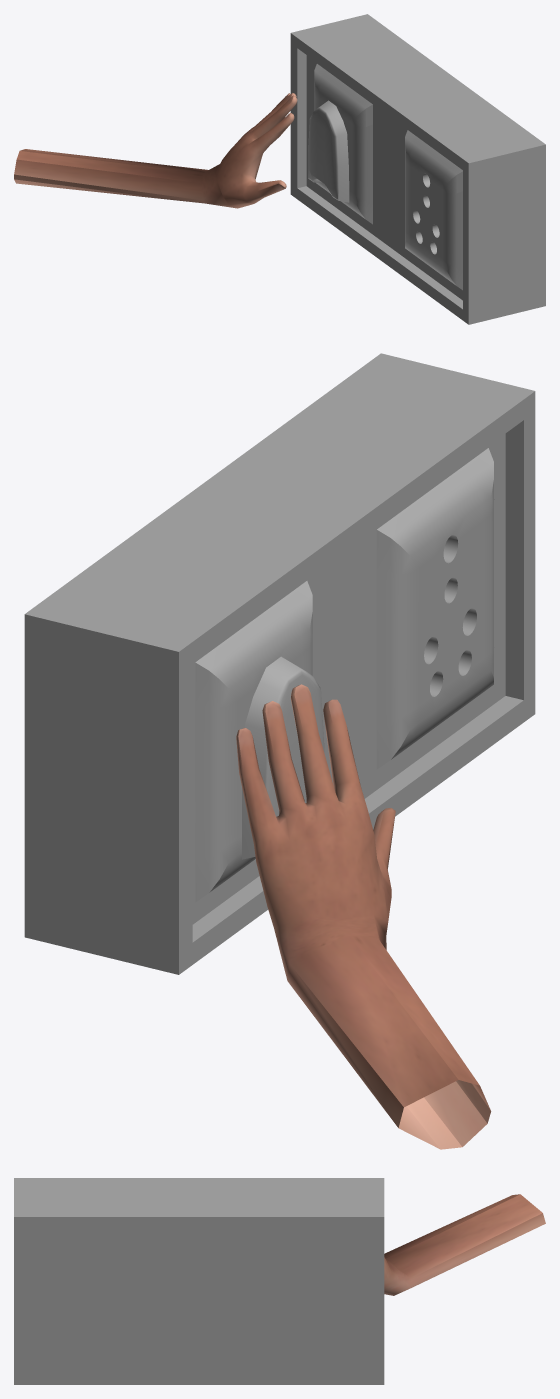
File: plug_in.fbx
The picture shows the model from 3 angles, top to bottom: view 1: azimuth 30°, elevation 25°; view 2: azimuth 150°, elevation 25°; view 3: azimuth 270°, elevation 25°; orthographic projection. The views are drawn at different scales.
Visible parts, largest first — view 1: electro:group2pCube10, hand, electro:group2polySurface11, electro:group2polySurface9, plug; view 2: electro:group2pCube10, hand, electro:group2polySurface11, electro:group2polySurface9, plug; view 3: electro:group2pCube10, hand.
Boxes of the visible parts, x1,y1,x2,y2 form: electro:group2pCube10: (290, 14, 545, 324); hand: (14, 93, 297, 208); electro:group2polySurface11: (405, 130, 462, 290); electro:group2polySurface9: (314, 64, 372, 224); plug: (308, 100, 349, 202); electro:group2pCube10: (24, 353, 535, 974); hand: (236, 684, 491, 1149); electro:group2polySurface11: (376, 448, 494, 769); electro:group2polySurface9: (195, 581, 312, 902); plug: (242, 656, 324, 859); electro:group2pCube10: (14, 1178, 384, 1384); hand: (384, 1194, 545, 1295).
Size of the model in its own units: 51.62 by 27.15 by 78.01.
Materials: 3 (1 with a texture image).
